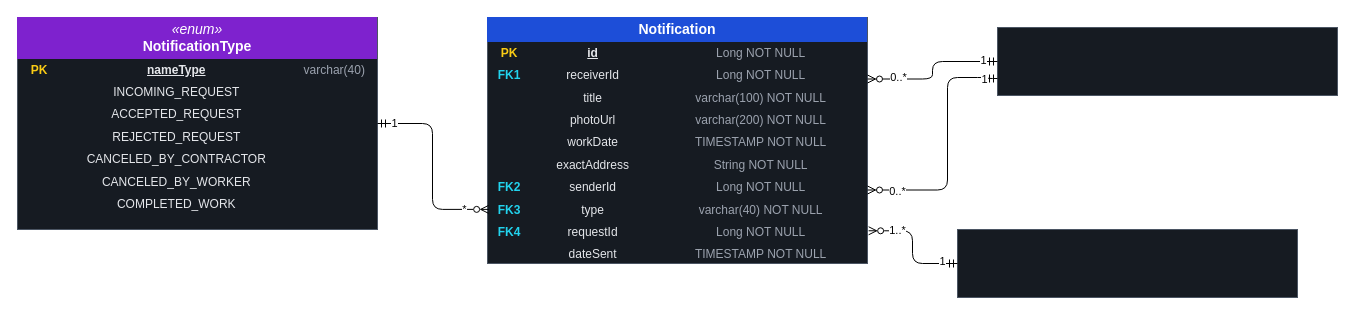
Image size: 1355x315. Some labels were removed from this diagram. The shapes that lost their labels are listed below. From the top down, each one's box as (x1, y1, x2, y2) in pixels, then its label:
(996, 26, 1338, 96): «dominio Usuario» User PK id Long NOT NULL
(956, 228, 1298, 298): «dominio Service» Request PK id Long NOT NULL
